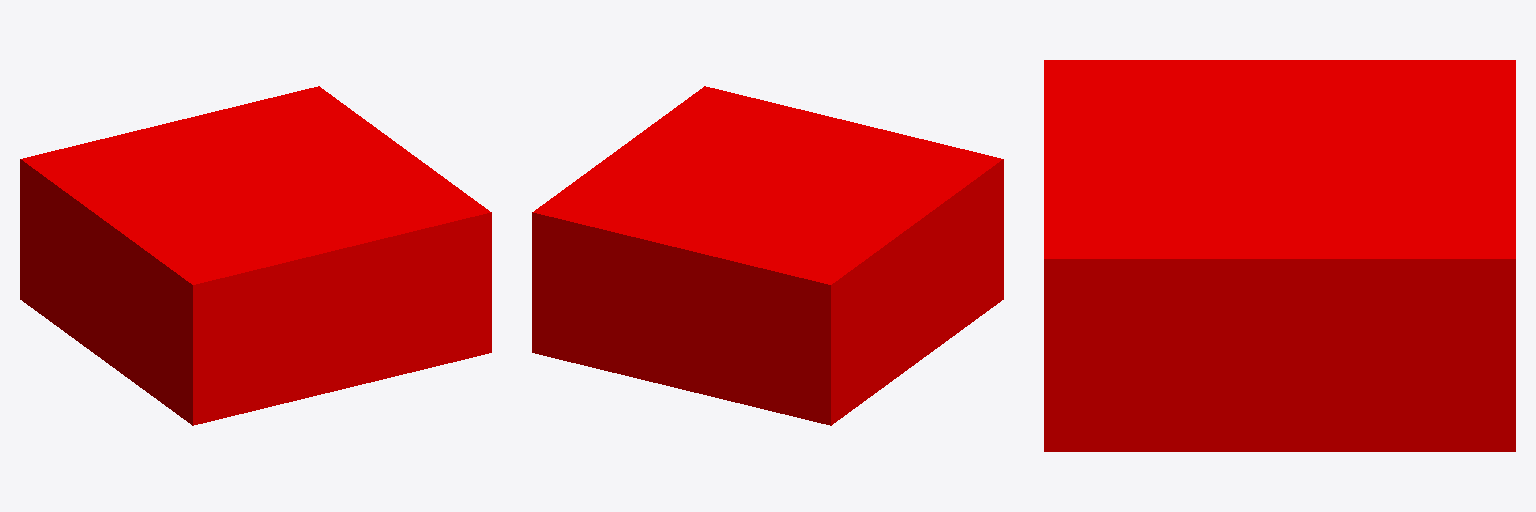
robot.urdf — food_item:
<?xml version="1.0" ?>
<robot name="food_item">
  <link name="food_item">
    <collision>
      <origin xyz="0.0 0.0 0.0275" />
      <geometry>
        <box size="0.1 0.1 0.045" />
      </geometry>
    </collision>
    <visual>
      <origin xyz="0.0 0.0 0.0275" />
      <material name="c">
        <color rgba="1.0 0 0 1.0" />
      </material>
      <geometry>
        <box size="0.1 0.1 0.045" />
      </geometry>
    </visual>
  </link>
</robot>

--- Render facts (derived) ---
3 views of the same robot in one strip: view 1: azimuth 30°, elevation 25°; view 2: azimuth 150°, elevation 25°; view 3: azimuth 270°, elevation 25° (orthographic).
Robot: food_item — 1 links, 0 joints (none); root link food_item; default pose: all joints at 0.
Links seen in each view (by area): view 1: food_item; view 2: food_item; view 3: food_item.
Boxes of the visible links, <box> form: food_item: <box>20,86,491,425</box>; food_item: <box>532,86,1003,425</box>; food_item: <box>1044,60,1515,451</box>.
Bounding box of the posed robot: 0.1 × 0.1 × 0.045 m (x, y, z).
Geometry: primitives only (box / cylinder / sphere), no mesh files.